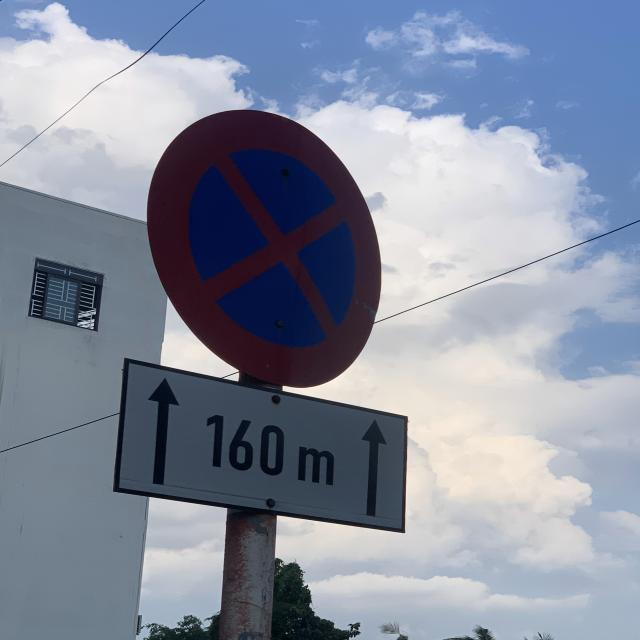Cam_Dung_Va_Dau_Xe: (147, 109, 379, 387)
